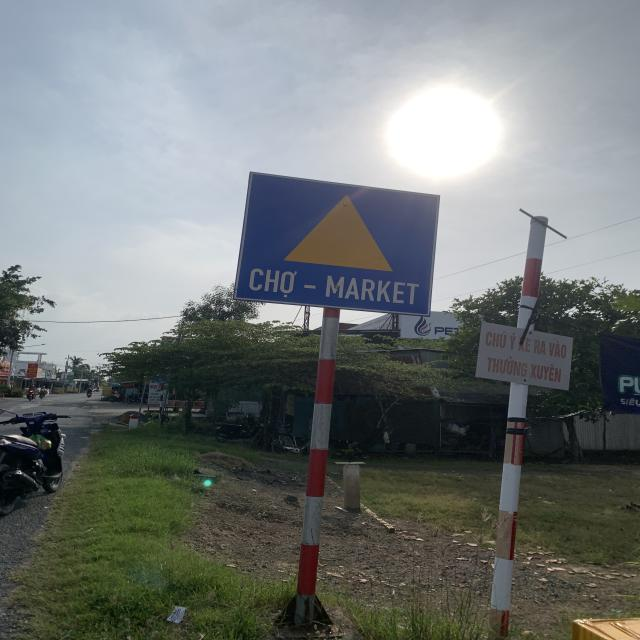Cho_Quay_Xe: (231, 170, 441, 313)
